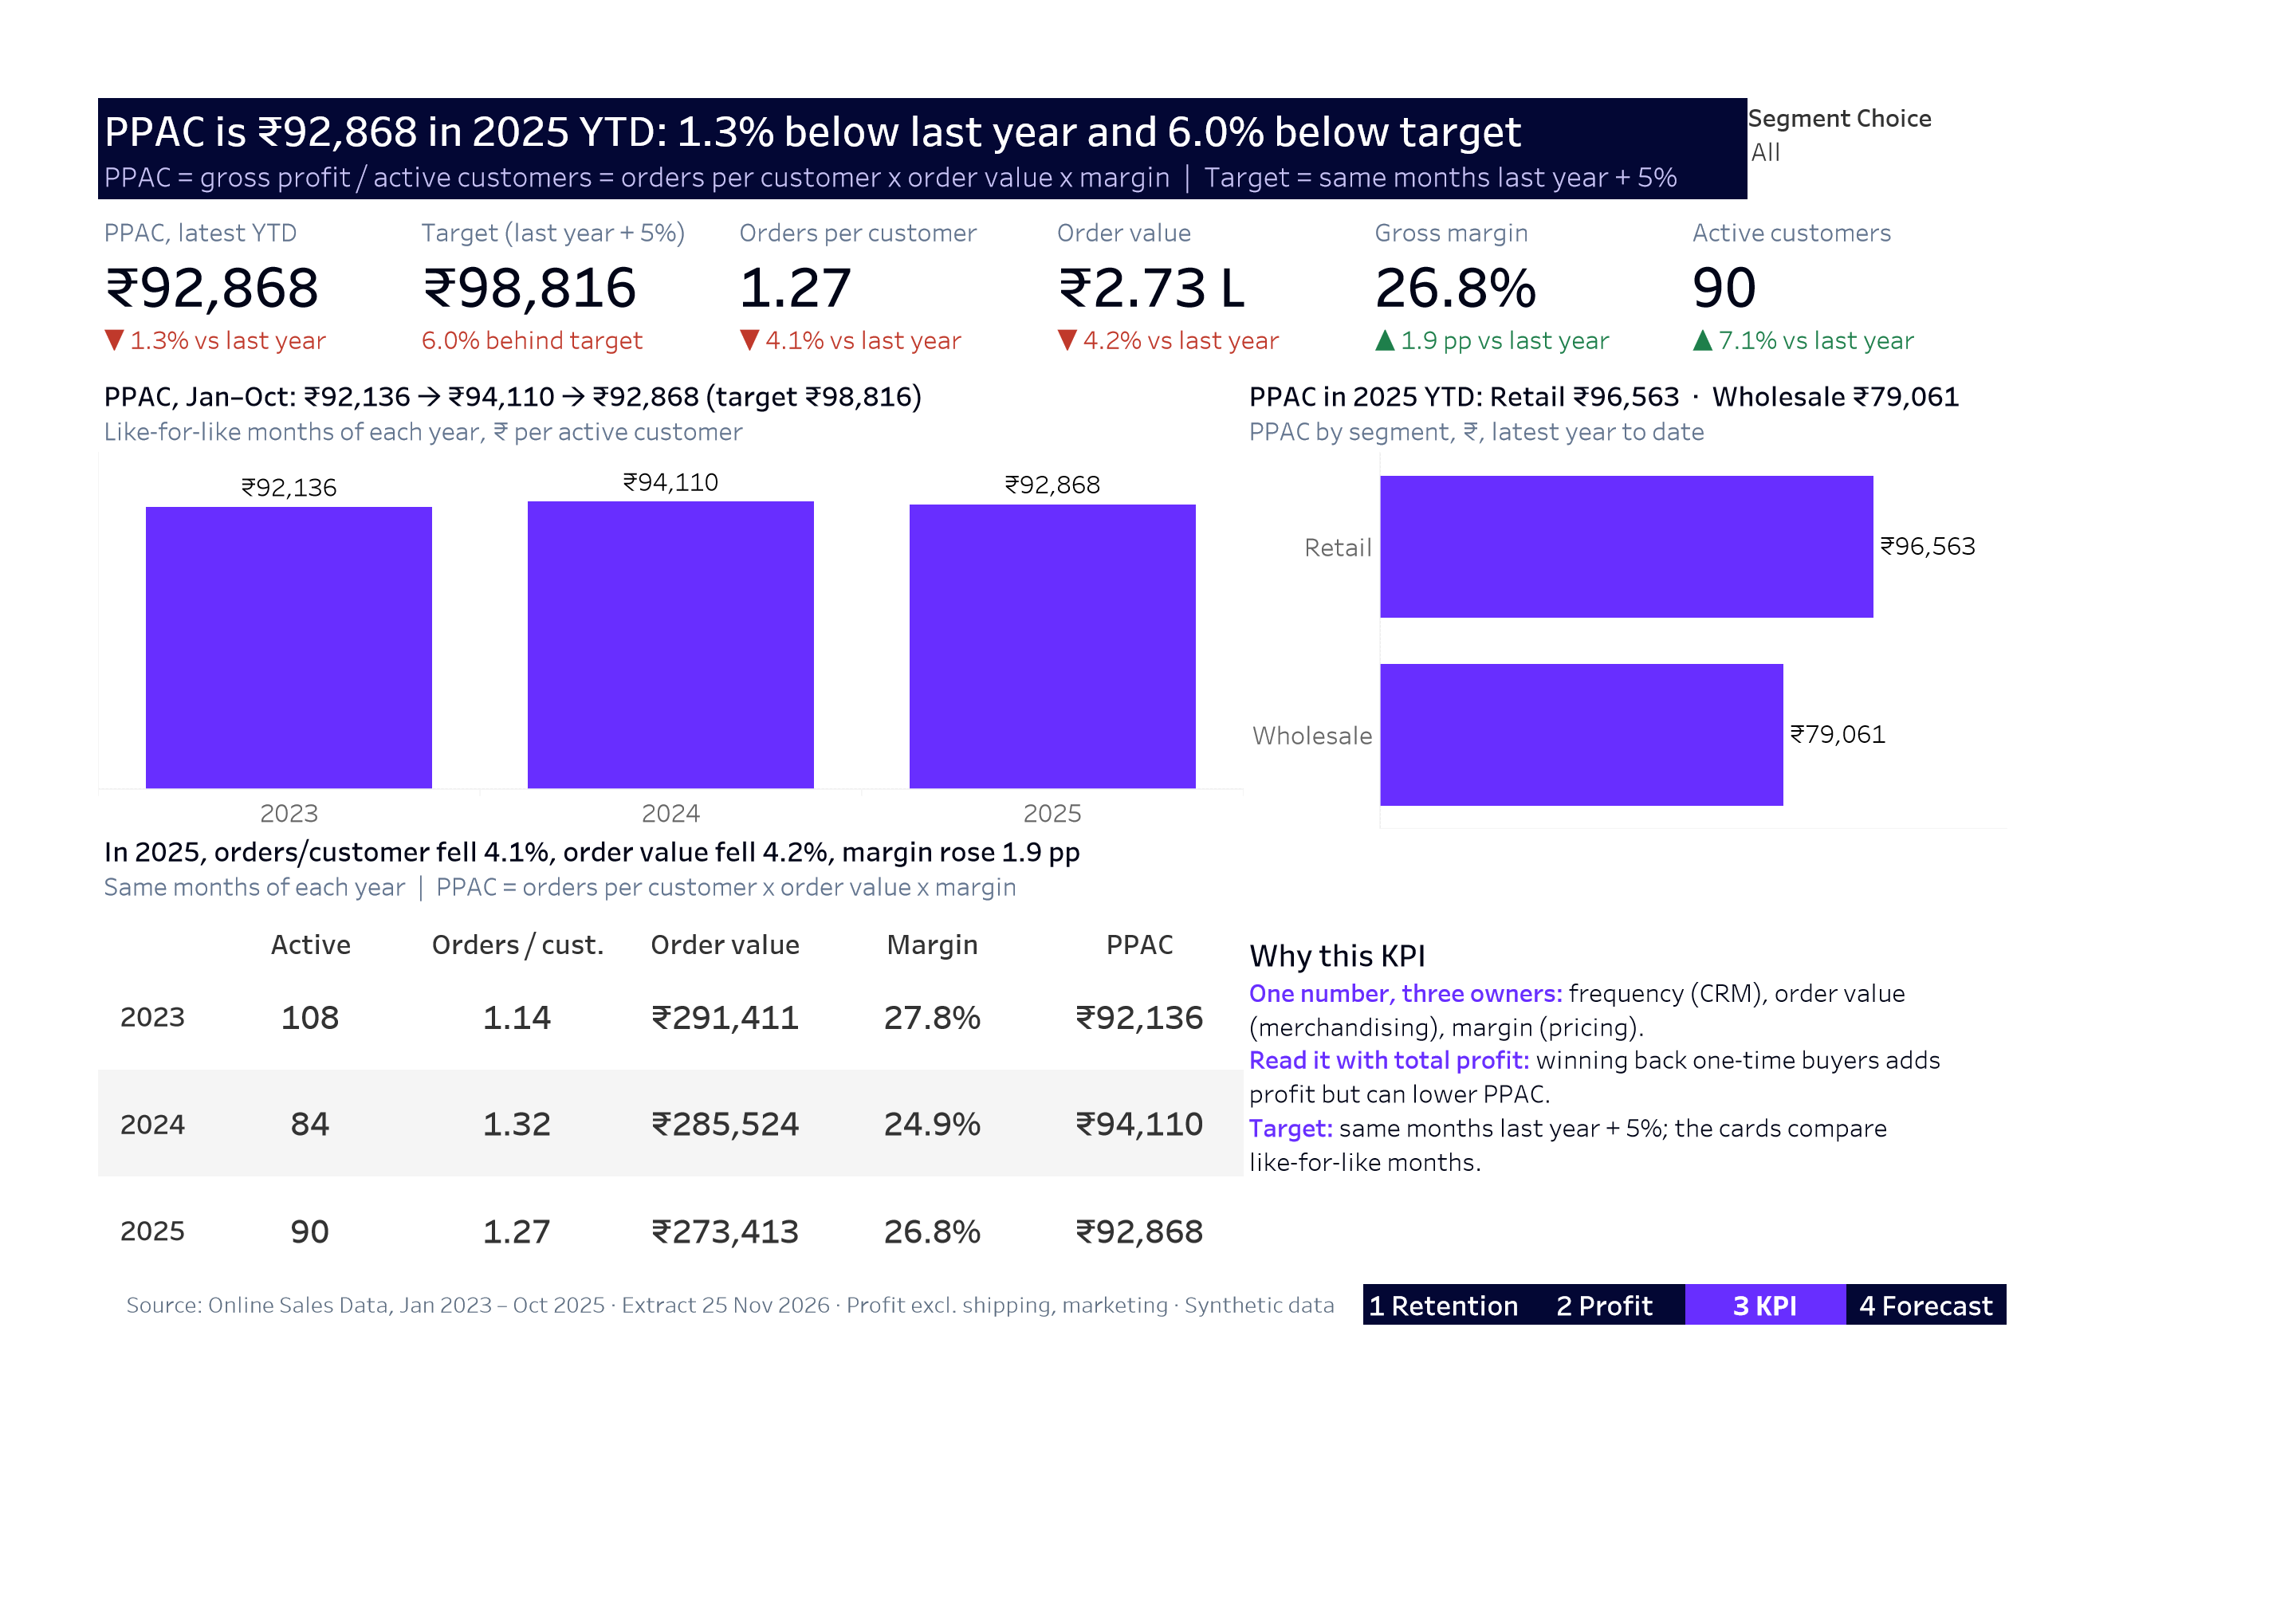

Layout of this report page (visuals, bound fields, positions):
{"tool":"tableau","page":{"name":"3 KPI","canvas":[1400,900],"ordinal":2},"visuals":[{"type":"NONE","title":"P3 Header","box":[0,0,1210,74]},{"type":"parameter","param":"[Parameters].[Parameter 1]","box":[1210,0,190,74]},{"type":"NONE","title":"K3 PPAC","box":[0,74,233,128]},{"type":"NONE","title":"K3 Target","box":[233,74,233,128]},{"type":"NONE","title":"K3 OPC","box":[466,74,233,128]},{"type":"NONE","title":"K3 AOV","box":[699,74,233,128]},{"type":"NONE","title":"K3 Margin","box":[932,74,233,128]},{"type":"NONE","title":"K3 Active","box":[1165,74,235,128]},{"type":"NONE","title":"T PPAC Years","box":[0,202,840,58]},{"type":"NONE","title":"T PPAC Segment","box":[840,202,560,58]},{"type":"NONE","title":"PPAC by Year","box":[0,260,840,276]},{"type":"NONE","title":"PPAC by Segment","box":[840,260,560,276]},{"type":"NONE","title":"T Drivers","box":[0,536,840,58]},{"type":"text","box":[840,536,560,334]},{"type":"NONE","title":"PPAC Drivers","box":[0,594,840,276]},{"type":"text","box":[0,870,928,30]},{"type":"dashboard-object","box":[928,870,118,30]},{"type":"dashboard-object","box":[1046,870,118,30]},{"type":"dashboard-object","box":[1164,870,118,30]},{"type":"dashboard-object","box":[1282,870,118,30]}]}

Visuals, with their boxes on the page's 1400x900 design canvas (x1, y1, x2, y2). These are canvas units, not pixel positions in the 2296x1622 screenshot, which may show the page scaled, cropped or inside an application window:
"P3 Header" NONE: <region>0, 0, 1210, 74</region>
parameter: <region>1210, 0, 1400, 74</region>
"K3 PPAC" NONE: <region>0, 74, 233, 202</region>
"K3 Target" NONE: <region>233, 74, 466, 202</region>
"K3 OPC" NONE: <region>466, 74, 699, 202</region>
"K3 AOV" NONE: <region>699, 74, 932, 202</region>
"K3 Margin" NONE: <region>932, 74, 1165, 202</region>
"K3 Active" NONE: <region>1165, 74, 1400, 202</region>
"T PPAC Years" NONE: <region>0, 202, 840, 260</region>
"T PPAC Segment" NONE: <region>840, 202, 1400, 260</region>
"PPAC by Year" NONE: <region>0, 260, 840, 536</region>
"PPAC by Segment" NONE: <region>840, 260, 1400, 536</region>
"T Drivers" NONE: <region>0, 536, 840, 594</region>
text: <region>840, 536, 1400, 870</region>
"PPAC Drivers" NONE: <region>0, 594, 840, 870</region>
text: <region>0, 870, 928, 900</region>
dashboard-object: <region>928, 870, 1046, 900</region>
dashboard-object: <region>1046, 870, 1164, 900</region>
dashboard-object: <region>1164, 870, 1282, 900</region>
dashboard-object: <region>1282, 870, 1400, 900</region>
